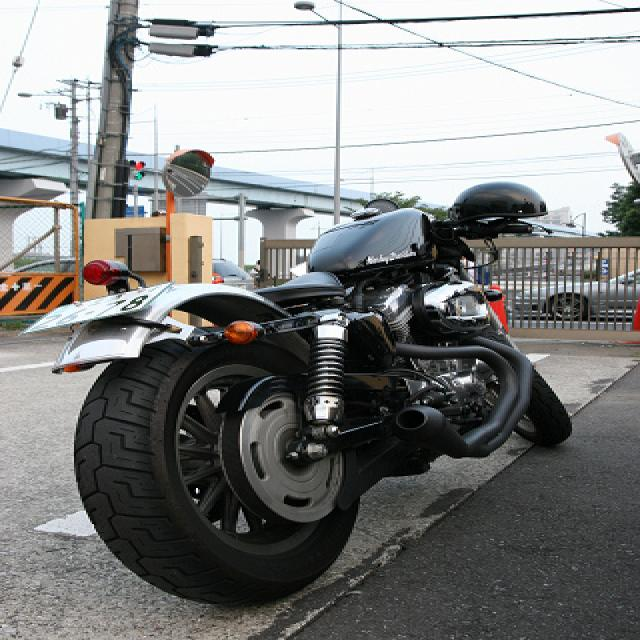car: (515, 268, 639, 322)
motorbike: (15, 182, 575, 608)
